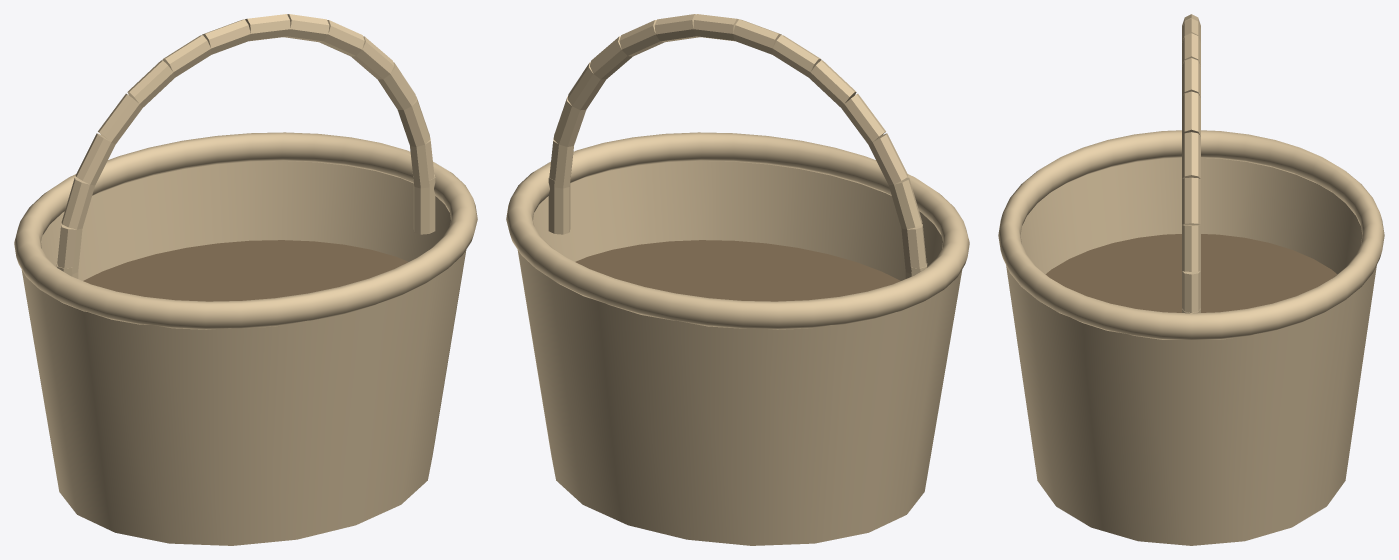
The model's file is gio_may_tre.glb.
3 renders of one model, left to right at view 1: azimuth 30°, elevation 25°; view 2: azimuth 150°, elevation 25°; view 3: azimuth 270°, elevation 25°, orthographic. The views are drawn at different scales.
Parts seen in each view (by area): view 1: gio_may_tre.001, gio_rim, gio_inner, gio_post_r, gio_handle_3, gio_handle_4, gio_handle_5, gio_handle_2, gio_handle_6, gio_handle_7, gio_handle_8, gio_handle_9 (+6 smaller); view 2: gio_may_tre.001, gio_rim, gio_inner, gio_post_r, gio_handle_3, gio_handle_4, gio_handle_5, gio_handle_2, gio_handle_6, gio_handle_7, gio_handle_8, gio_handle_9 (+6 smaller); view 3: gio_may_tre.001, gio_rim, gio_inner, gio_handle_12, gio_handle_13, gio_handle_11, gio_handle_14, gio_handle_10, gio_handle_9, gio_handle_8.
Boxes of the visible parts, box(x1,y1,x2,y2) form: gio_may_tre.001: box(21, 161, 466, 545); gio_rim: box(14, 132, 477, 329); gio_inner: box(83, 240, 408, 301); gio_post_r: box(413, 174, 435, 234); gio_handle_3: box(75, 133, 115, 185); gio_handle_4: box(98, 93, 142, 144); gio_handle_5: box(127, 60, 174, 107); gio_handle_2: box(61, 177, 94, 229); gio_handle_6: box(162, 35, 211, 77); gio_handle_7: box(202, 19, 250, 54); gio_handle_8: box(245, 14, 290, 41); gio_handle_9: box(284, 14, 329, 42); gio_may_tre.001: box(517, 161, 962, 545); gio_rim: box(506, 132, 969, 329); gio_inner: box(575, 240, 900, 301); gio_post_r: box(548, 174, 570, 234); gio_handle_3: box(868, 133, 908, 185); gio_handle_4: box(841, 93, 885, 144); gio_handle_5: box(809, 60, 856, 107); gio_handle_2: box(889, 177, 922, 229); gio_handle_6: box(772, 35, 821, 77); gio_handle_7: box(733, 19, 781, 54); gio_handle_8: box(693, 14, 738, 41); gio_handle_9: box(654, 14, 699, 42); gio_may_tre.001: box(1006, 158, 1376, 545); gio_rim: box(998, 130, 1384, 339); gio_inner: box(1045, 234, 1337, 312); gio_handle_12: box(1182, 177, 1200, 224); gio_handle_13: box(1182, 225, 1200, 271); gio_handle_11: box(1182, 132, 1200, 178); gio_handle_14: box(1182, 271, 1200, 312); gio_handle_10: box(1182, 91, 1200, 135); gio_handle_9: box(1182, 58, 1200, 97); gio_handle_8: box(1182, 33, 1200, 65).
Bounding box in the file's own units: 0.346 × 0.36 × 0.2901.
